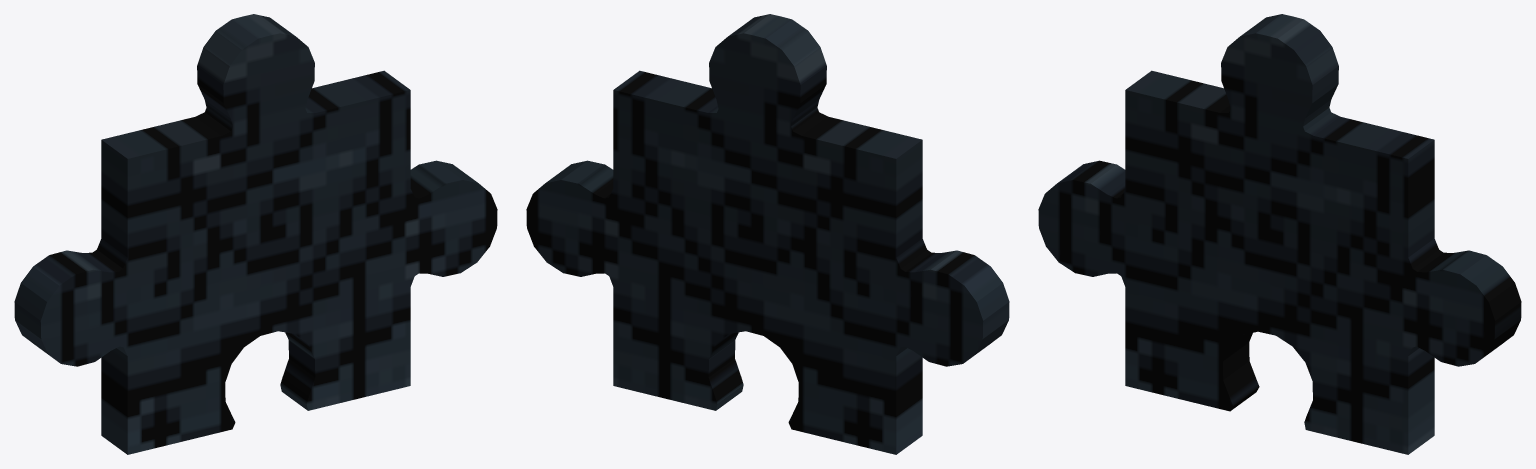
File: Pieces_4_006.fbx
3 views of the same model, side by side, from view 1: azimuth 30°, elevation 25°; view 2: azimuth 150°, elevation 25°; view 3: azimuth 330°, elevation 25° (orthographic).
Visible parts, largest first — view 1: Pieces 4.006; view 2: Pieces 4.006; view 3: Pieces 4.006.
Part boxes in pixels (box(x1,y1,x2,y2)): Pieces 4.006: box(14, 14, 497, 454); Pieces 4.006: box(526, 14, 1009, 454); Pieces 4.006: box(1038, 14, 1521, 454).
Size of the model in its own units: 130 by 105 by 12.98.
